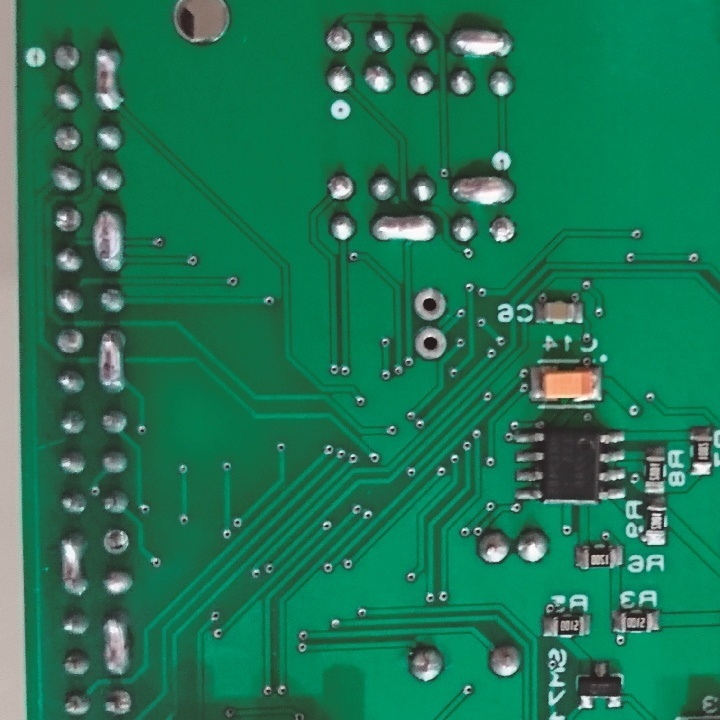F: (410, 282, 450, 326), (414, 324, 449, 365), (47, 39, 84, 72), (99, 526, 136, 558), (54, 324, 87, 357), (52, 120, 83, 153), (52, 205, 83, 236), (487, 215, 520, 244), (324, 20, 353, 52), (325, 172, 355, 201)
P: (91, 206, 128, 272), (95, 330, 130, 398), (96, 612, 135, 672), (450, 21, 513, 58), (448, 174, 516, 206), (93, 44, 121, 115), (58, 530, 87, 598), (372, 212, 435, 243)
